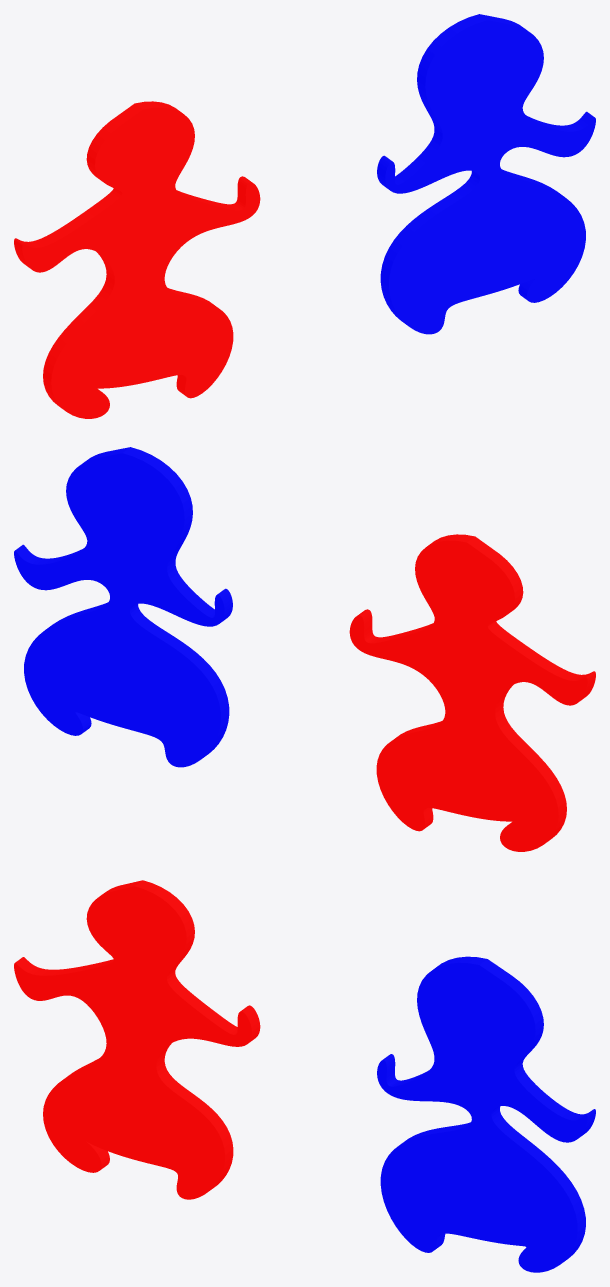
The model's file is Fight.glb.
3 renders of one model, top to bottom at view 1: azimuth 30°, elevation 25°; view 2: azimuth 150°, elevation 25°; view 3: azimuth 330°, elevation 25°, orthographic.
Bounding box in the file's own units: 2 × 1.02 × 0.05.
